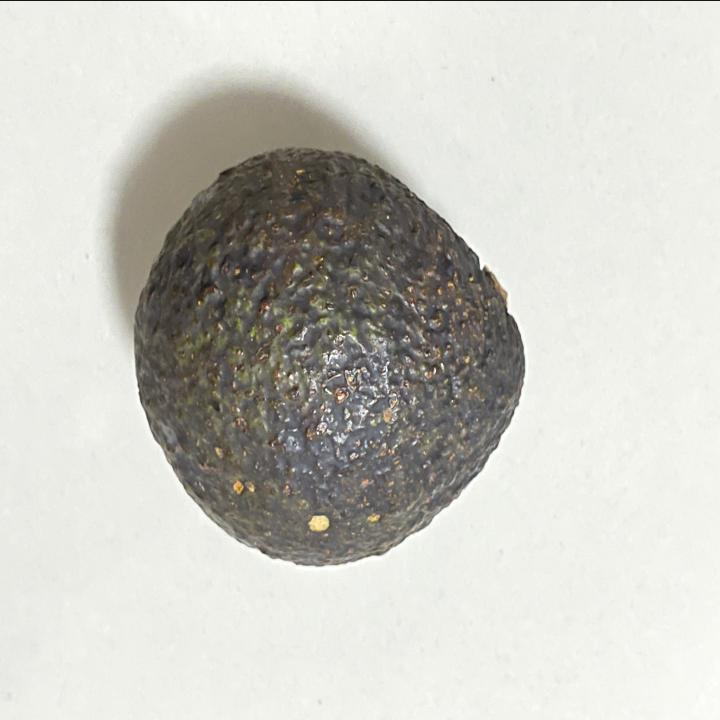Level2: (127, 136, 538, 574)
